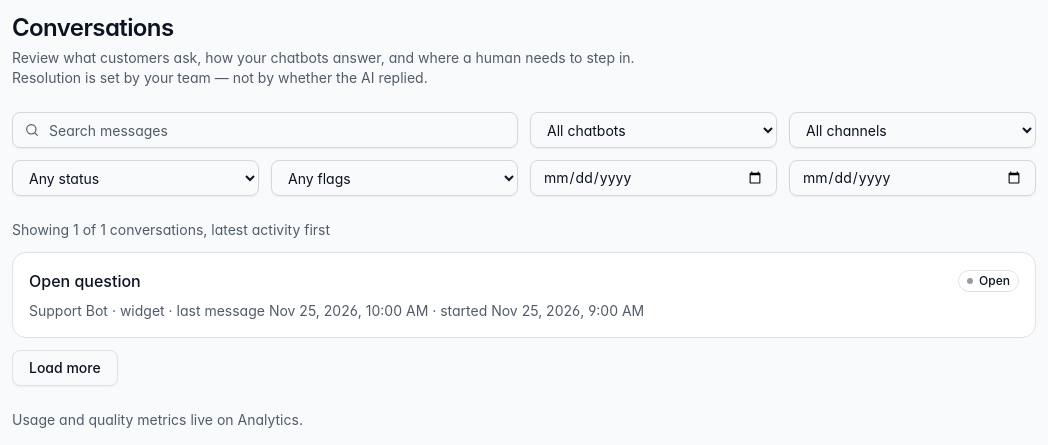
Test: inbox pagination › drops a next page that arrives after the filters changed
Click the button "Load more".
click(65, 368)  # box 12,350 -> 118,386
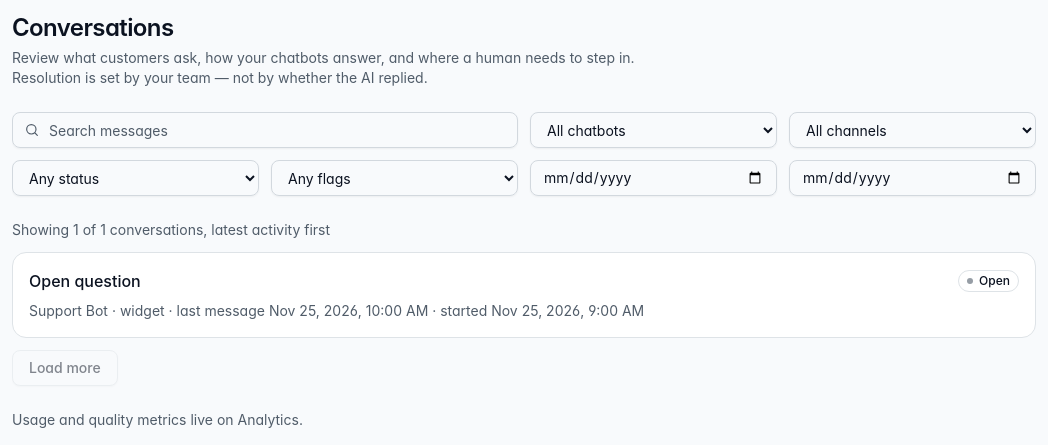
Select "Resolved" in the dropdown named "Status" at (136, 178), box 12,160 -> 259,196
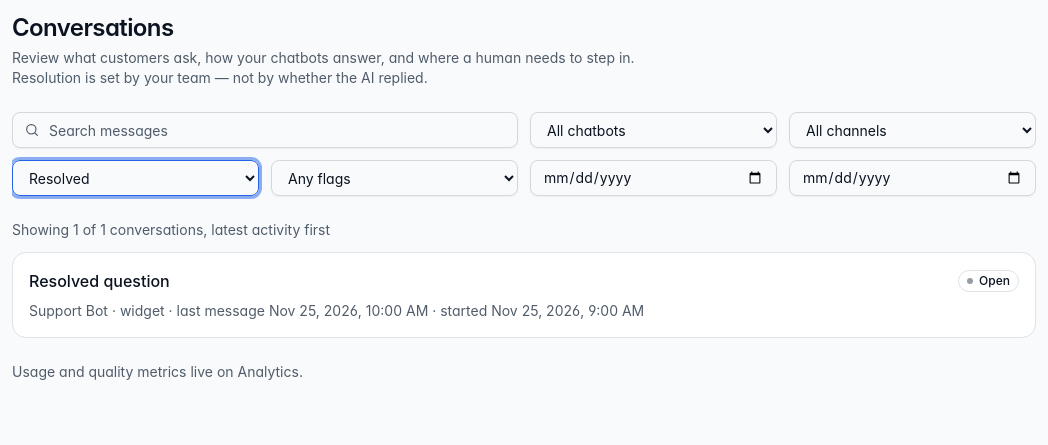
Check: the text "Resolved question" is shown, box 29,269 -> 170,293
